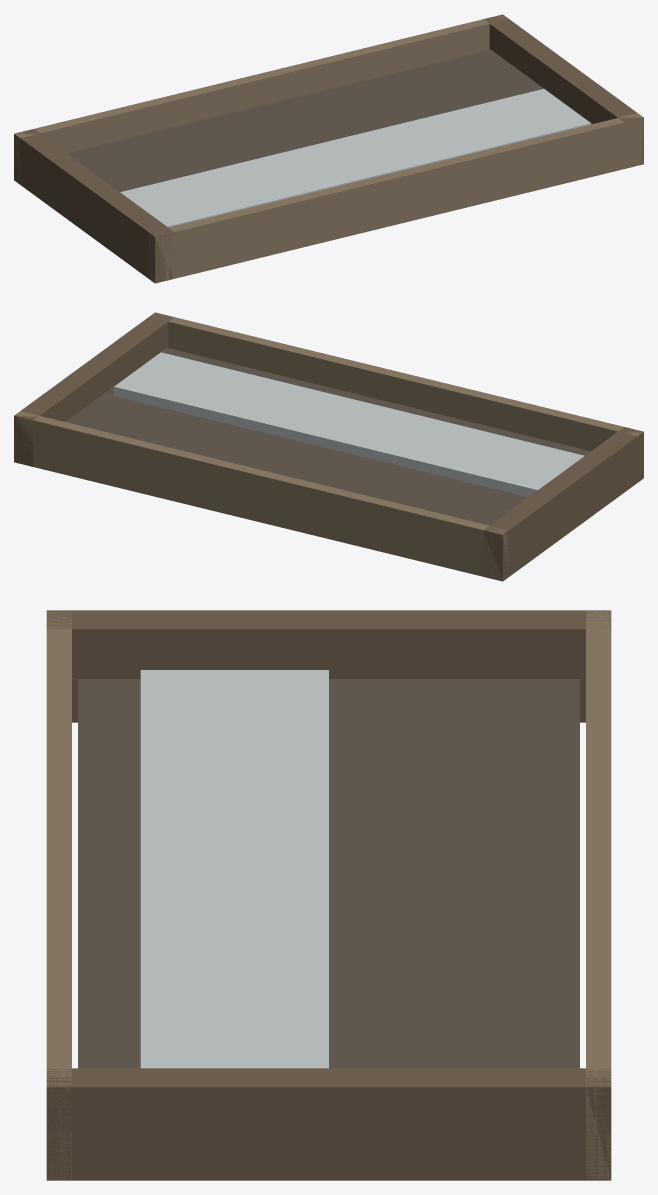
The model's file is garden_bed.glb.
3 renders of one model, top to bottom at view 1: azimuth 30°, elevation 25°; view 2: azimuth 150°, elevation 25°; view 3: azimuth 270°, elevation 25°, orthographic. The views are drawn at different scales.
Visible parts, largest first — view 1: garden_bed; view 2: garden_bed; view 3: garden_bed.
Boxes of the visible parts, left/top/right/bottom form: garden_bed: left=14, top=14, right=643, bottom=283; garden_bed: left=14, top=312, right=643, bottom=581; garden_bed: left=46, top=610, right=611, bottom=1180.
Size of the model in its own units: 3.84 by 0.35 by 1.92.
